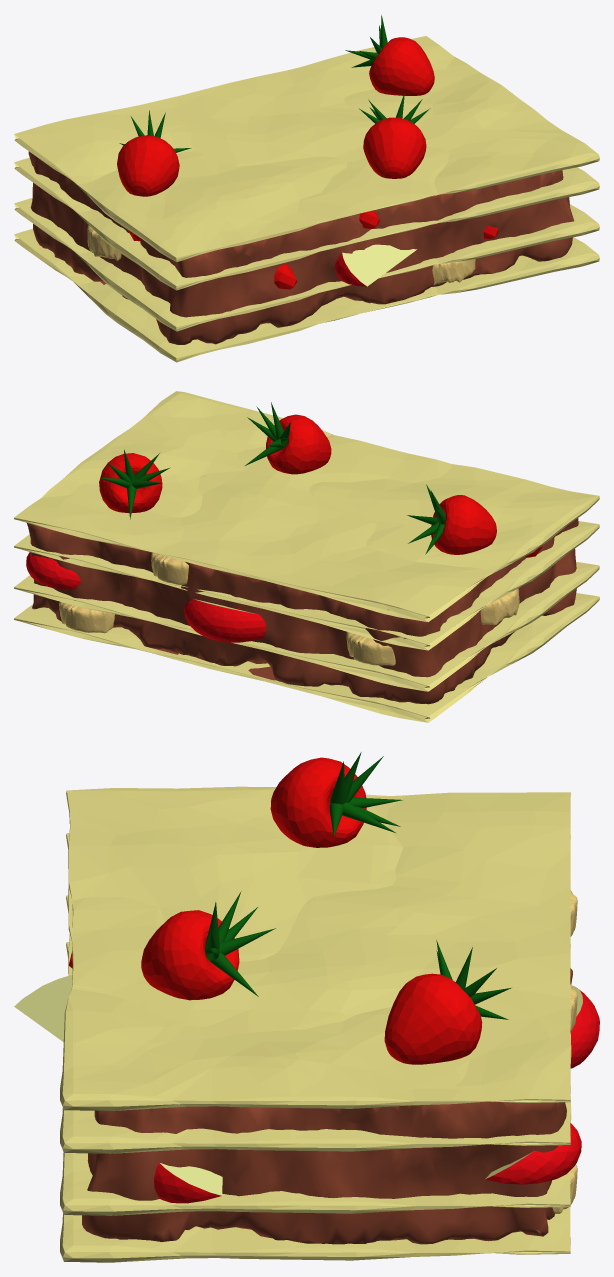
Rendered from fruit_lasagna.fbx.
The picture shows the model from 3 angles, top to bottom: view 1: azimuth 30°, elevation 25°; view 2: azimuth 150°, elevation 25°; view 3: azimuth 270°, elevation 25°; orthographic projection. The views are drawn at different scales.
Parts seen in each view (by area): view 1: Cylinder.001; view 2: Cylinder.001; view 3: Cylinder.001.
Boxes of the visible parts, box(x1,y1,x2,y2) form: Cylinder.001: box(14, 15, 599, 362); Cylinder.001: box(14, 391, 599, 722); Cylinder.001: box(14, 752, 599, 1262).
Bounding box in the file's own units: 297 × 113 × 232.
